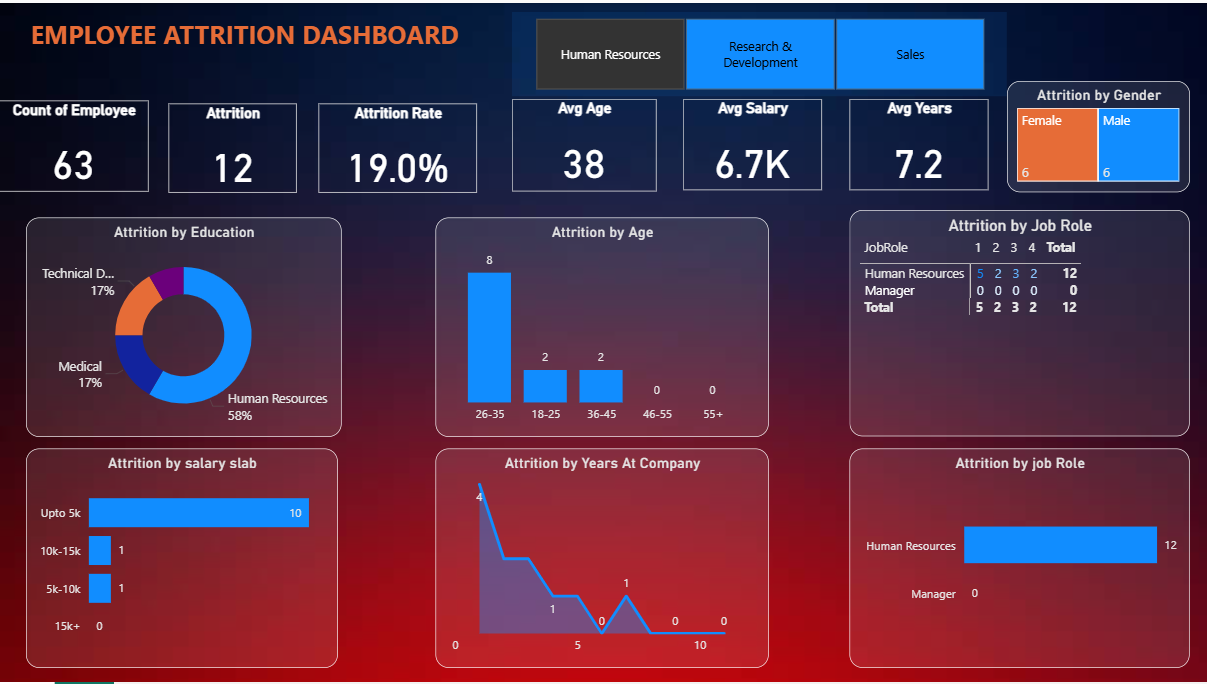

What the dashboard file says about the page in this screenshot:
{"tool":"powerbi","page":{"name":"Page 1","canvas":[1280,720],"ordinal":0},"visuals":[{"type":"cardVisual","title":"Count of Employee","fields":{"Data":["CountNonNull(HR_Analytics.EmpID)"]},"box":[0,103.9,158.7,96.4],"z":0},{"type":"cardVisual","title":"Attrition","fields":{"Data":["Sum(HR_Analytics.Attrition_Count)"]},"box":[179.5,105.8,136.1,94.5],"z":1000},{"type":"cardVisual","title":"Attrition Rate","fields":{"Data":["HR_Analytics.Attrition_rate"]},"box":[338.3,105.8,168.2,94.5],"z":2000},{"type":"cardVisual","title":"Avg Age","fields":{"Data":["Avg(HR_Analytics.Age)"]},"box":[544.3,102,153.1,98.3],"z":3000},{"type":"cardVisual","title":"Avg Salary","fields":{"Data":["Avg(HR_Analytics.MonthlyIncome)"]},"box":[725.7,102,147.4,96.4],"z":4000},{"type":"cardVisual","title":"Avg Years","fields":{"Data":["Avg(HR_Analytics.YearsAtCompany)"]},"box":[901.4,102,147.4,96.4],"z":5000},{"type":"donutChart","title":"Attrition by Education","fields":{"Category":["HR_Analytics.EducationField"],"Y":["Sum(HR_Analytics.Attrition_Count)"]},"box":[28.3,226.8,334.5,232.4],"z":6000},{"type":"columnChart","title":"Attrition by Age","fields":{"Category":["HR_Analytics.AgeGroup"],"Y":["Sum(HR_Analytics.Attrition_Count)"]},"box":[463,226.8,353.4,232.4],"z":7000},{"type":"pivotTable","title":"Attrition by Job Role","fields":{"Rows":["HR_Analytics.JobRole"],"Columns":["HR_Analytics.JobSatisfaction"],"Values":["Sum(HR_Analytics.Attrition_Count)"]},"box":[901.4,219.2,360.9,240],"z":8000},{"type":"barChart","title":"Attrition by salary slab","fields":{"Category":["HR_Analytics.SalarySlab"],"Y":["Sum(HR_Analytics.Attrition_Count)"]},"box":[28.3,472.4,330.7,232.4],"z":9000},{"type":"barChart","title":"Attrition by job Role","fields":{"Category":["HR_Analytics.JobRole"],"Y":["Sum(HR_Analytics.Attrition_Count)"]},"box":[901.4,472.4,360.9,232.4],"z":10000},{"type":"treemap","title":"Attrition by Gender","fields":{"Values":["Sum(HR_Analytics.Attrition_Count)"],"Group":["HR_Analytics.Gender"]},"box":[1068.9,82.7,194.1,117.7],"z":11000},{"type":"areaChart","title":"Attrition by Years At Company","fields":{"Category":["HR_Analytics.YearsAtCompany"],"Y":["Sum(HR_Analytics.Attrition_Count)"]},"box":[463,472.4,353.4,232.4],"z":12000},{"type":"slicer","title":"Attrition by Years At Company","fields":{"Values":["HR_Analytics.Department"]},"box":[544,9.5,524.9,89.1],"z":13000},{"type":"textbox","box":[28.6,9.5,515.4,58.9],"z":14000}]}

Visuals, with their boxes in screenshot pixels (x1, y1, x2, y2), scaled from the page's 1280x720 canvas onto the 1207x684 screenshot:
"Count of Employee" cardVisual: <region>0, 99, 150, 190</region>
"Attrition" cardVisual: <region>169, 101, 298, 190</region>
"Attrition Rate" cardVisual: <region>319, 101, 478, 190</region>
"Avg Age" cardVisual: <region>513, 97, 658, 190</region>
"Avg Salary" cardVisual: <region>684, 97, 823, 188</region>
"Avg Years" cardVisual: <region>850, 97, 989, 188</region>
"Attrition by Education" donutChart: <region>27, 215, 342, 436</region>
"Attrition by Age" columnChart: <region>437, 215, 770, 436</region>
"Attrition by Job Role" pivotTable: <region>850, 208, 1190, 436</region>
"Attrition by salary slab" barChart: <region>27, 449, 339, 670</region>
"Attrition by job Role" barChart: <region>850, 449, 1190, 670</region>
"Attrition by Gender" treemap: <region>1008, 79, 1191, 190</region>
"Attrition by Years At Company" areaChart: <region>437, 449, 770, 670</region>
"Attrition by Years At Company" slicer: <region>513, 9, 1008, 94</region>
textbox: <region>27, 9, 513, 65</region>
